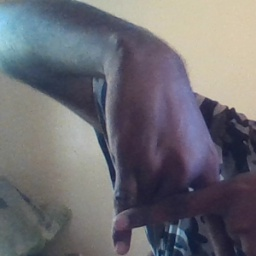H: (115, 128, 252, 256)
